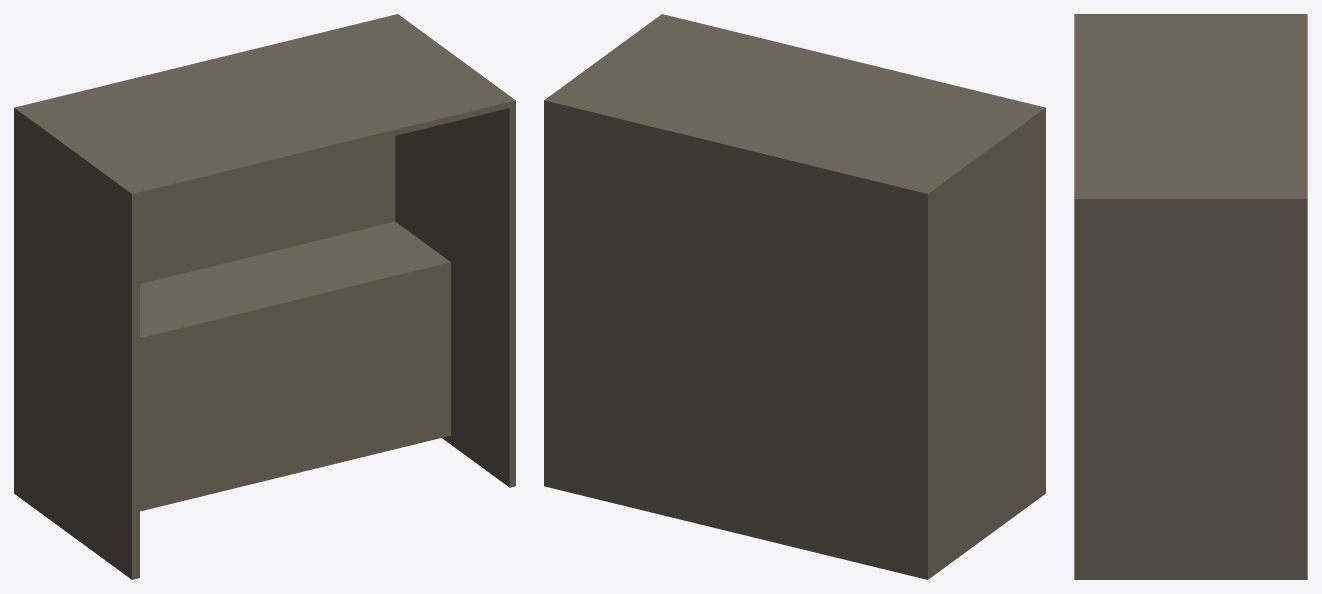
The model's file is small hut.fbx.
3 views of the same model, side by side, from view 1: azimuth 30°, elevation 25°; view 2: azimuth 150°, elevation 25°; view 3: azimuth 270°, elevation 25° (orthographic).
Visible parts, largest first — view 1: Cube; view 2: Cube; view 3: Cube.
Boxes of the visible parts, box(x1,y1,x2,y2) form: Cube: box(14, 14, 515, 579); Cube: box(544, 14, 1045, 579); Cube: box(1074, 14, 1307, 579).
Size of the model in its own units: 349 by 336 by 186.
